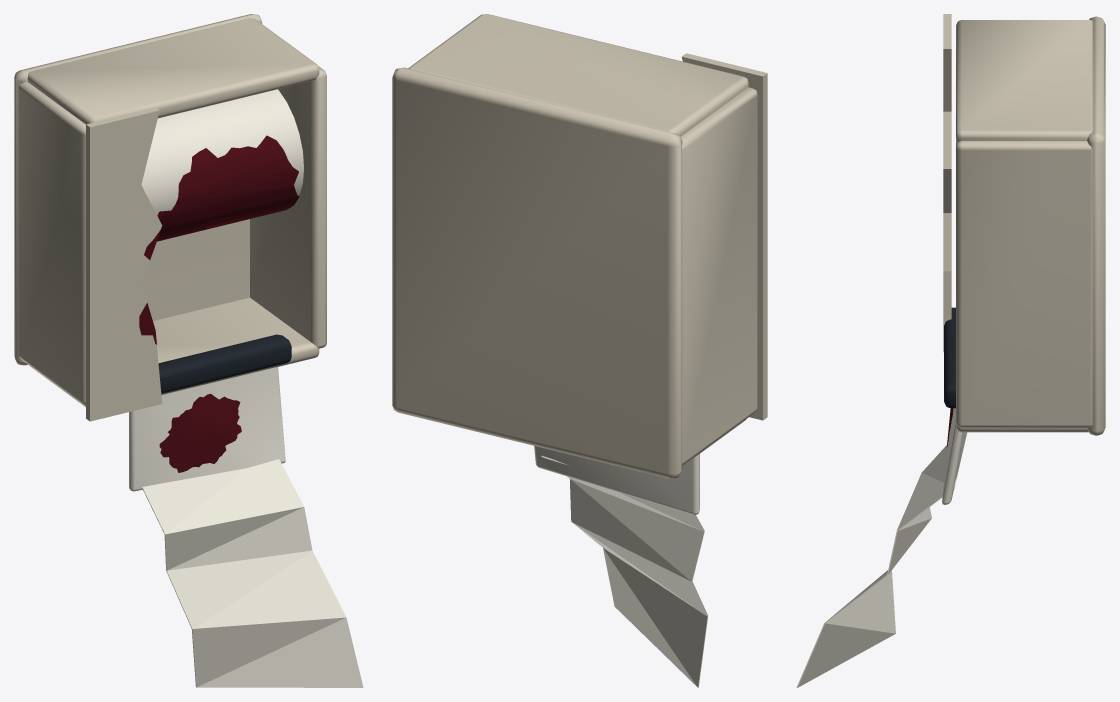
The model's file is towel_dispenser.glb.
The picture shows the model from 3 angles, left to right: view 1: azimuth 30°, elevation 25°; view 2: azimuth 150°, elevation 25°; view 3: azimuth 270°, elevation 25°; orthographic projection. The views are drawn at different scales.
Parts seen in each view (by area): view 1: Outbreak_Clinical_Towel_Dispenser_Static; view 2: Outbreak_Clinical_Towel_Dispenser_Static; view 3: Outbreak_Clinical_Towel_Dispenser_Static.
Boxes of the visible parts, x1,y1,x2,y2 form: Outbreak_Clinical_Towel_Dispenser_Static: (14,14,363,687); Outbreak_Clinical_Towel_Dispenser_Static: (392,14,767,687); Outbreak_Clinical_Towel_Dispenser_Static: (796,14,1105,687).
Bounding box in the file's own units: 0.282 × 0.6186 × 0.2994.
